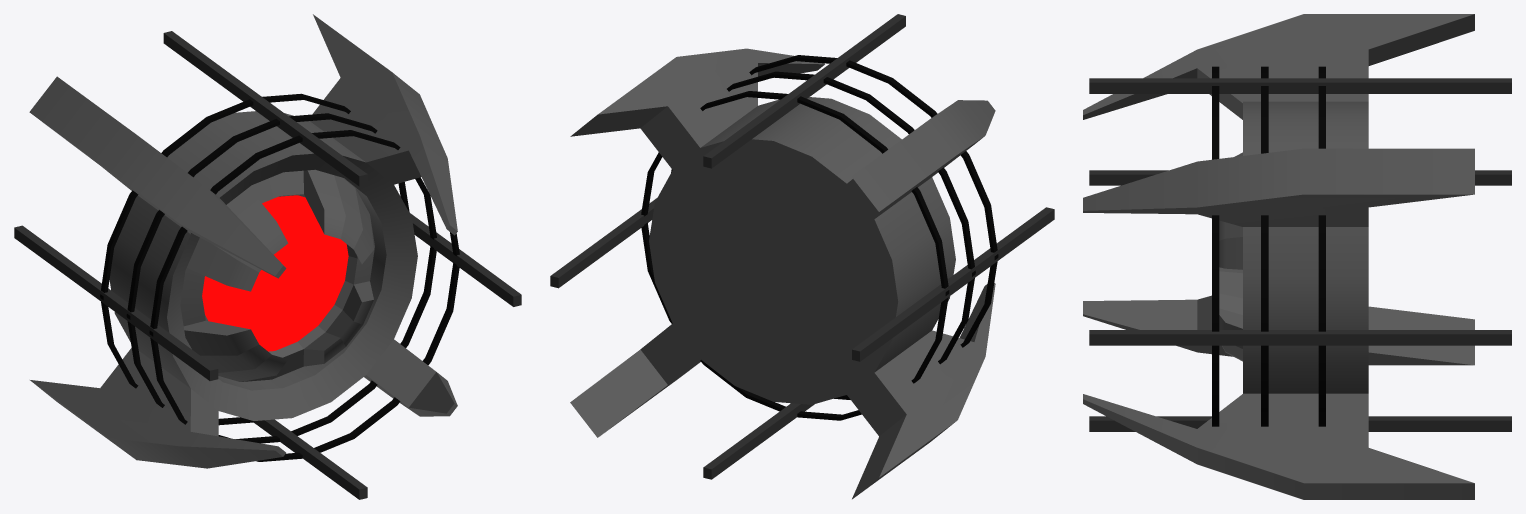
The model's file is Lazor emitter.fbx.
3 views of the same model, side by side, from view 1: azimuth 30°, elevation 25°; view 2: azimuth 150°, elevation 25°; view 3: azimuth 270°, elevation 25° (orthographic). The views are drawn at different scales.
Parts seen in each view (by area): view 1: pCylinder1, pPipe2, pPipe1, pCube4, pCube3, pPipe3, pCube2, pCube1; view 2: pCylinder1, pPipe3, pCube4, pCube3, pPipe2, pPipe1, pCube2, pCube1; view 3: pCylinder1, pCube2, pCube4, pCube1, pPipe1, pPipe2, pPipe3, pCube3.
Boxes of the visible parts, x1=… form: pCylinder1: x1=29, y1=14, x2=457, y2=468; pPipe2: x1=126, y1=113, x2=436, y2=443; pPipe1: x1=149, y1=130, x2=459, y2=461; pCube4: x1=163, y1=31, x2=367, y2=186; pCube3: x1=14, y1=225, x2=218, y2=380; pPipe3: x1=100, y1=93, x2=409, y2=425; pCube2: x1=410, y1=213, x2=521, y2=306; pCube1: x1=253, y1=419, x2=367, y2=499; pCylinder1: x1=570, y1=48, x2=995, y2=499; pPipe3: x1=641, y1=91, x2=949, y2=420; pCube4: x1=703, y1=14, x2=905, y2=168; pCube3: x1=852, y1=207, x2=1054, y2=361; pPipe2: x1=671, y1=71, x2=975, y2=399; pPipe1: x1=749, y1=55, x2=998, y2=347; pCube2: x1=550, y1=198, x2=656, y2=288; pCube1: x1=703, y1=403, x2=814, y2=479; pCylinder1: x1=1083, y1=14, x2=1474, y2=499; pCube2: x1=1089, y1=330, x2=1511, y2=345; pCube4: x1=1089, y1=78, x2=1511, y2=93; pCube1: x1=1089, y1=416, x2=1511, y2=431; pPipe1: x1=1212, y1=66, x2=1219, y2=426; pPipe2: x1=1261, y1=66, x2=1268, y2=426; pPipe3: x1=1318, y1=66, x2=1325, y2=426; pCube3: x1=1089, y1=170, x2=1511, y2=185.
Size of the model in its own units: 15.54 by 15.45 by 17.05.
